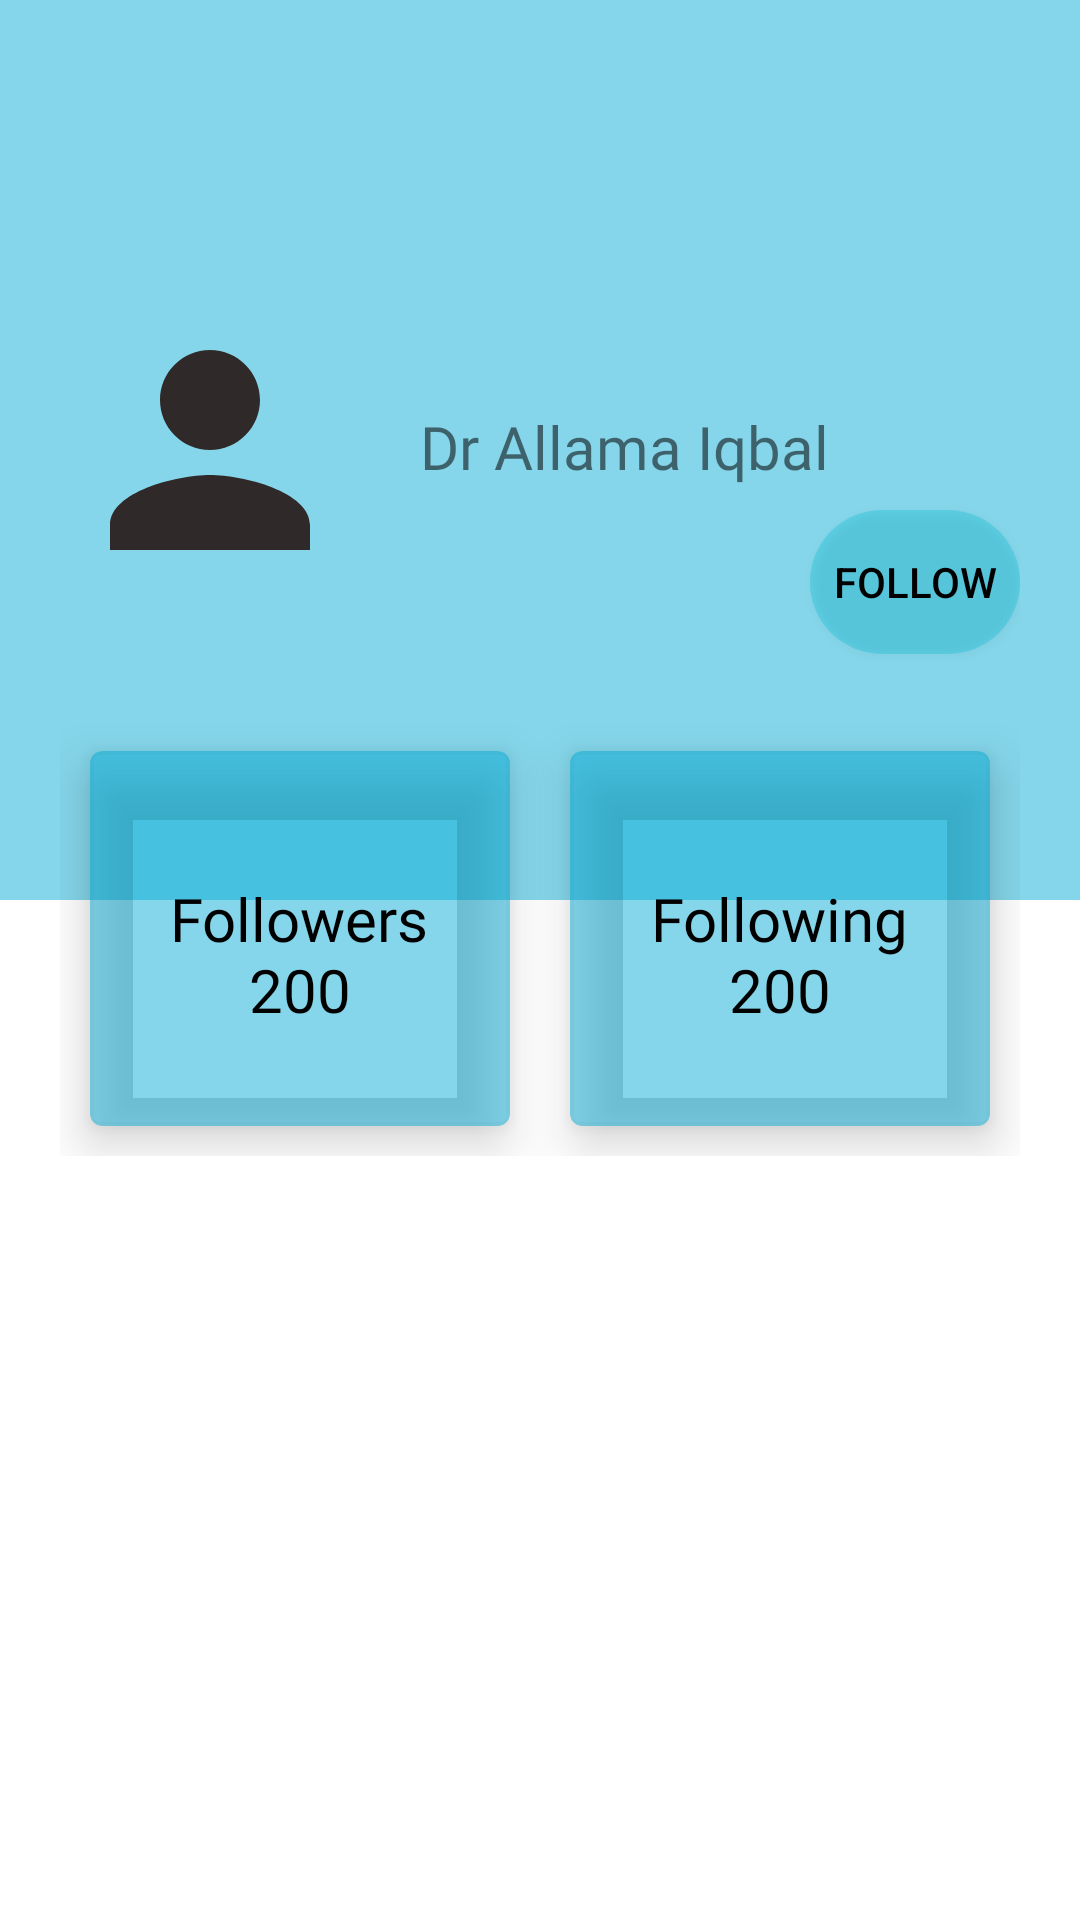

Where to tap for icons on this 1080x1920 app screen, as point (x, y):
person: point (210, 450)
